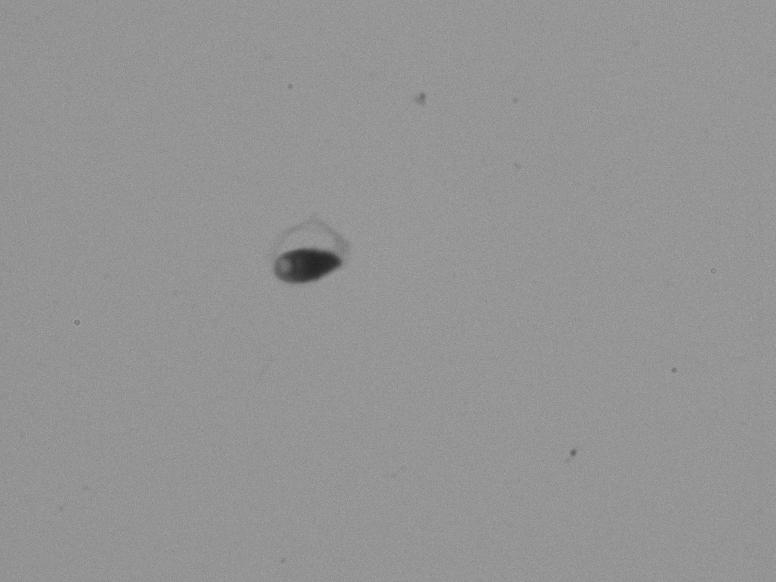Abnormal: (223, 177, 393, 347)
